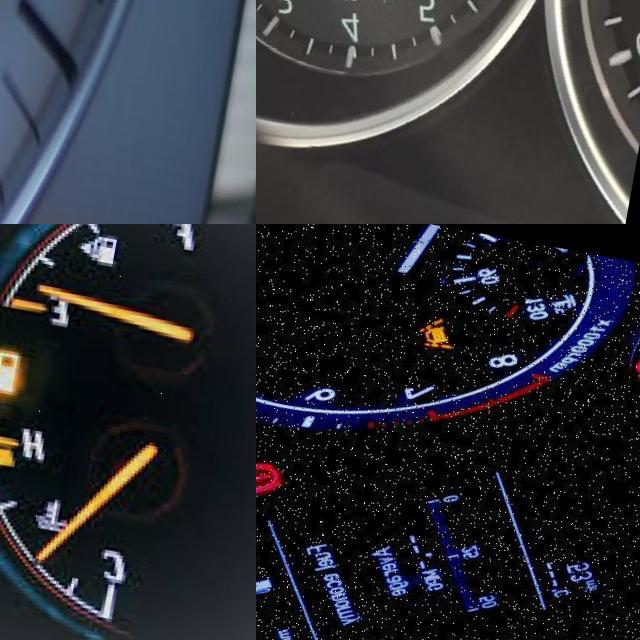Electronic Power Steering: (614, 318, 640, 375)
